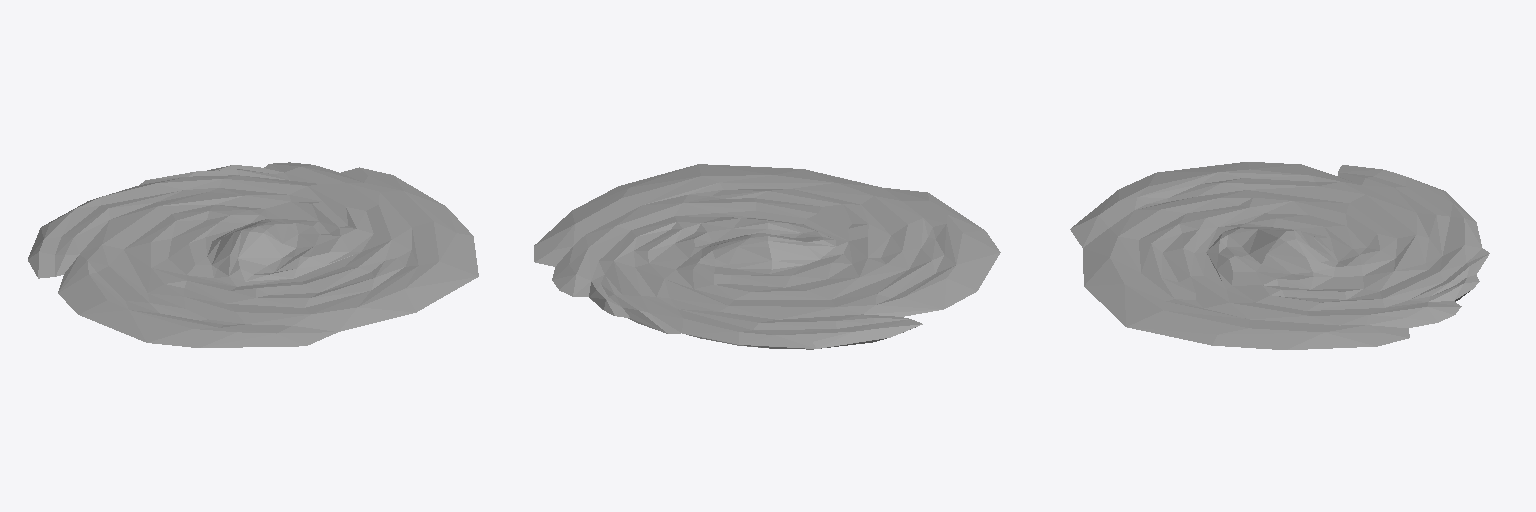
The model's file is Eye_of_Terror.obj.
3 renders of one model, left to right at view 1: azimuth 30°, elevation 25°; view 2: azimuth 150°, elevation 25°; view 3: azimuth 270°, elevation 25°, orthographic.
Visible parts, largest first — view 1: MilkyWay; view 2: MilkyWay; view 3: MilkyWay.
Part boxes in pixels (x1,y1,x2,y2): MilkyWay: (28, 162, 478, 347); MilkyWay: (534, 164, 1000, 349); MilkyWay: (1070, 162, 1489, 349).
Size of the model in its own units: 9.79 by 1.11 by 9.22.